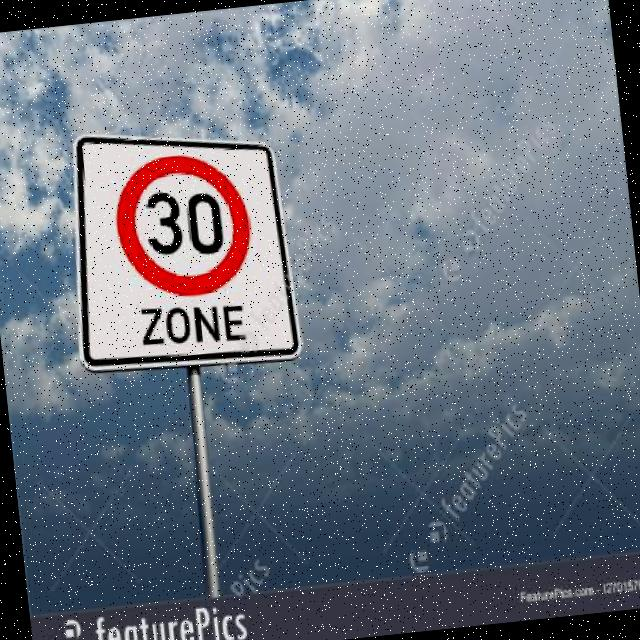Ograniczenie predkosci do 30: (108, 146, 258, 302)
